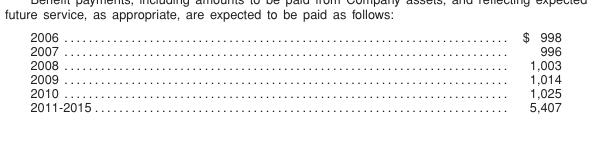table: (29, 28, 560, 114)
table column: (29, 28, 306, 114), (306, 28, 560, 114)
table row: (29, 28, 560, 43), (29, 99, 560, 114), (29, 43, 560, 57), (29, 57, 560, 71), (29, 71, 560, 85), (29, 85, 560, 99)
